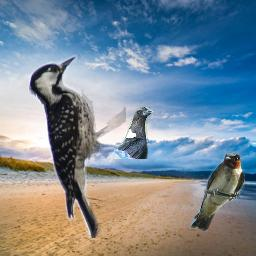Crow: (114, 107, 153, 159)
Swallow: (189, 151, 245, 232)
Woodpecker: (27, 53, 126, 238)
